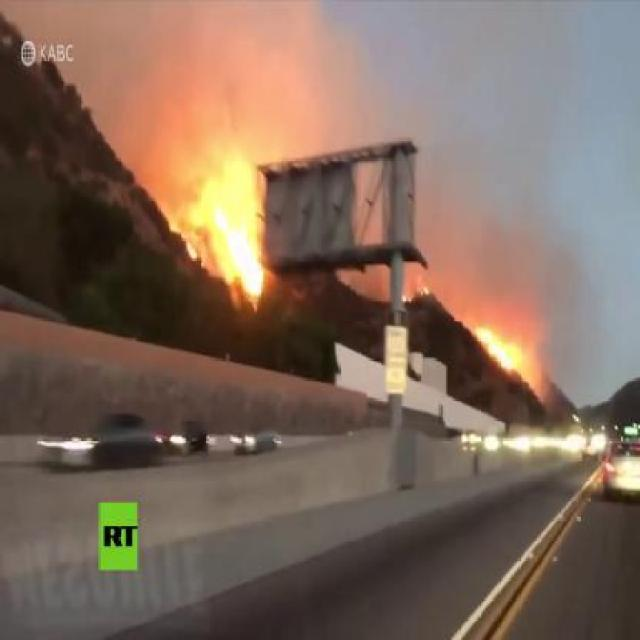Fire: (183, 155, 268, 309), (466, 326, 529, 383)
